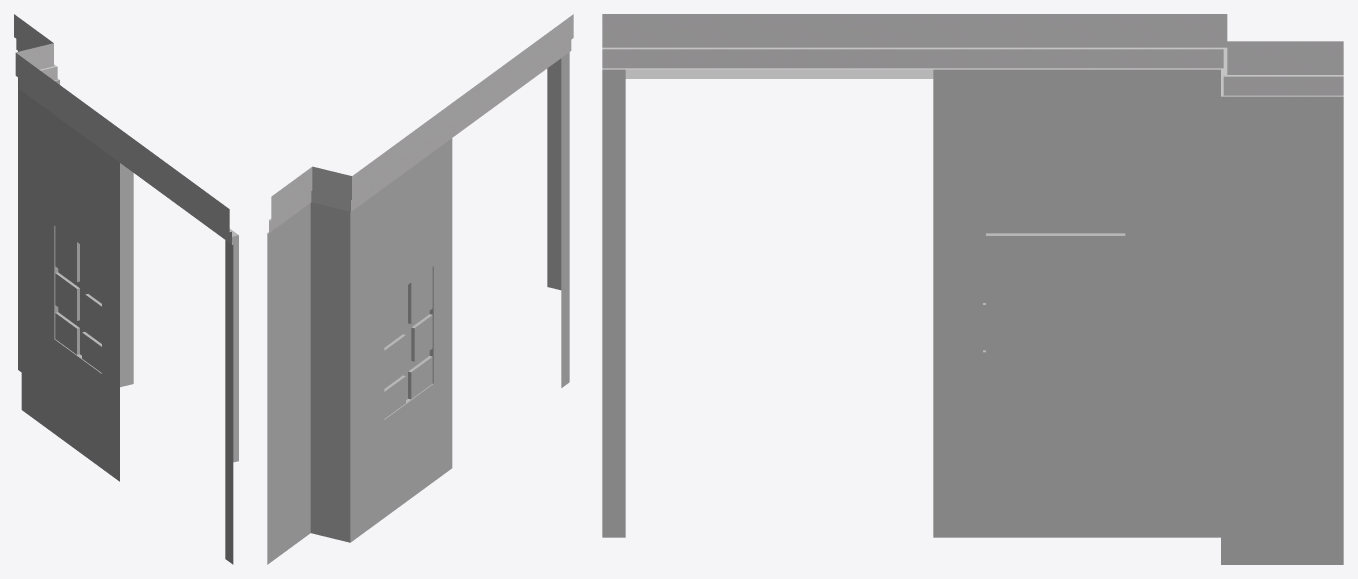
The model's file is SM_Wall_Brick_4.fbx.
3 renders of one model, left to right at view 1: azimuth 30°, elevation 25°; view 2: azimuth 150°, elevation 25°; view 3: azimuth 270°, elevation 25°, orthographic. The views are drawn at different scales.
Parts seen in each view (by area): view 1: SM_Wall_Brick_4; view 2: SM_Wall_Brick_4; view 3: SM_Wall_Brick_4.
Boxes of the visible parts, bbox=[...] form: SM_Wall_Brick_4: bbox=[14, 14, 238, 564]; SM_Wall_Brick_4: bbox=[267, 14, 573, 564]; SM_Wall_Brick_4: bbox=[602, 14, 1343, 564].
Size of the model in its own units: 54.77 by 571 by 443.
